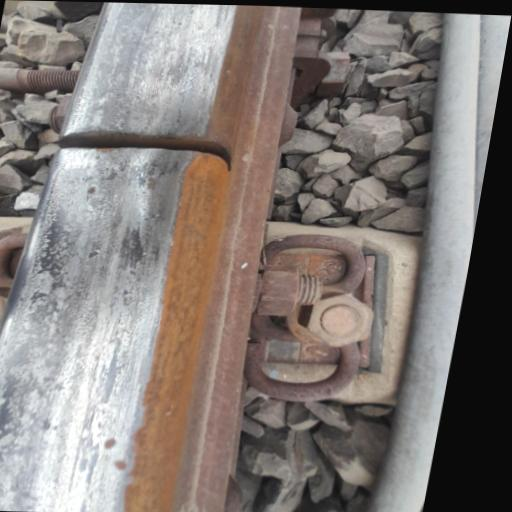bolt: (296, 279, 384, 356)
broken_rail: (0, 2, 296, 439)
clip: (232, 223, 405, 410)
